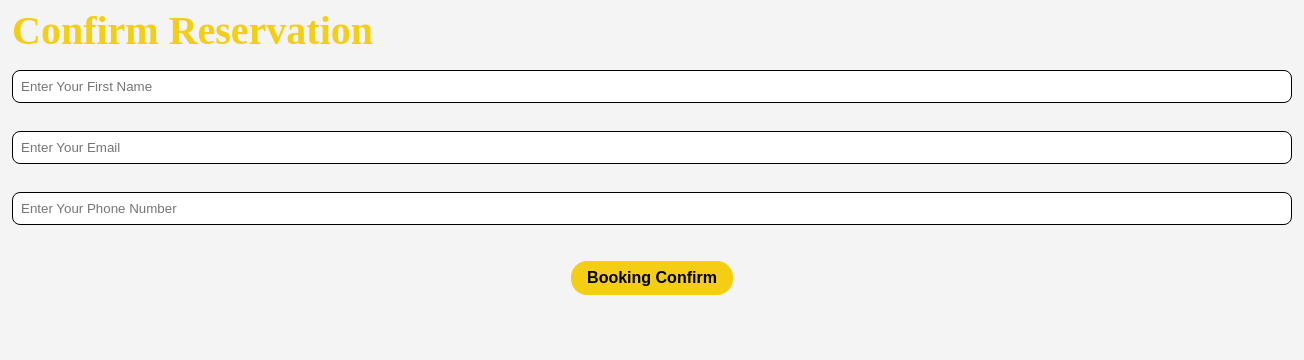
ConfirmReservation Component › shows validation errors when inputs are empty and form is submitted
This screenshot has width=1304, height=360.
Step 1. Click the button "Booking Confirm" → (652, 278), box 571,261 -> 733,295
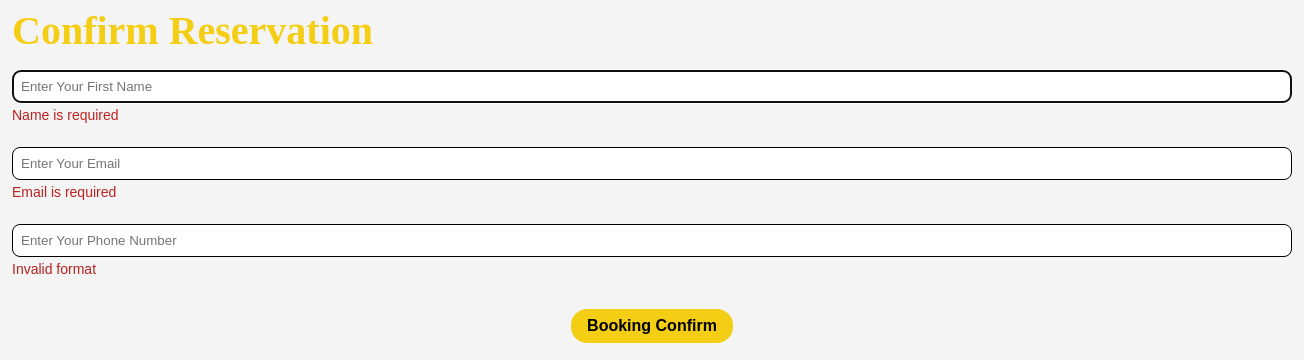
Expected: the text "Name is required" is shown, 12,107 -> 119,123
Expected: the text "Email is required" is shown, 12,184 -> 116,200
Expected: the text "Invalid format" is shown, 12,261 -> 96,277
